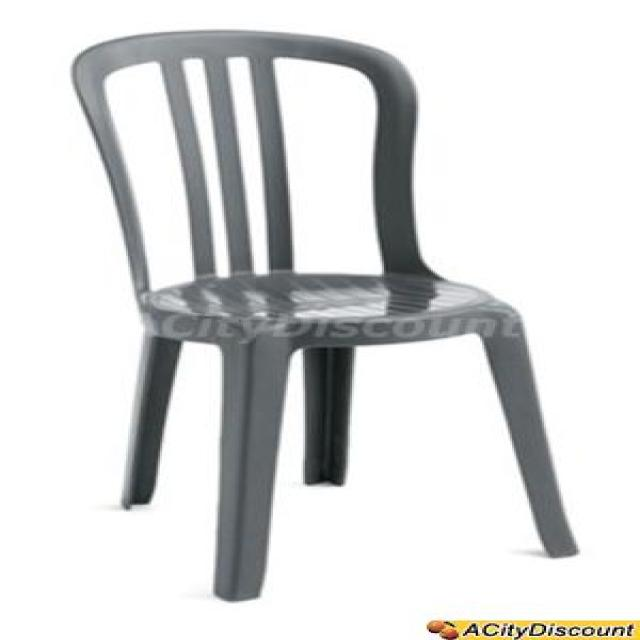chair: (71, 28, 578, 604)
